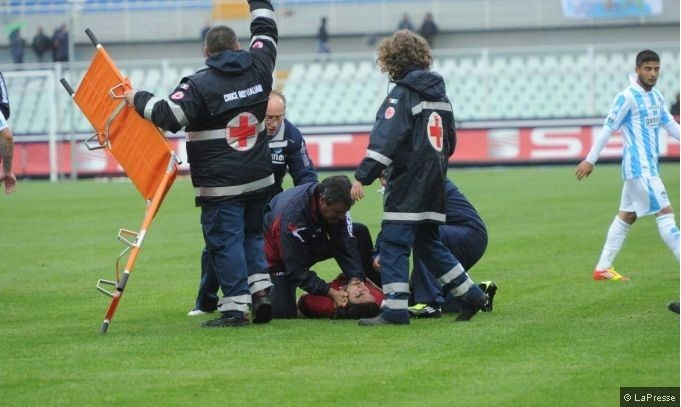falling: (291, 262, 398, 324)
